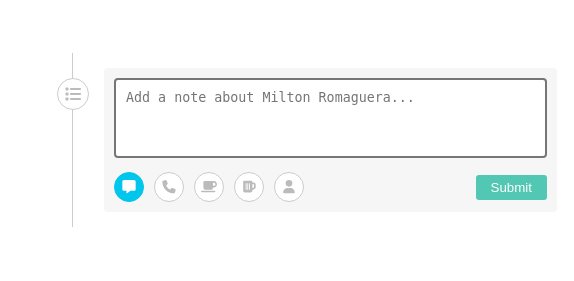
Test: Main page › Check adding activity item
The width and height of the screenshot is (574, 281).
Type "test note" into the text box with test id "textarea" at (330, 118), box x1=114 y1=78 x2=547 y2=158
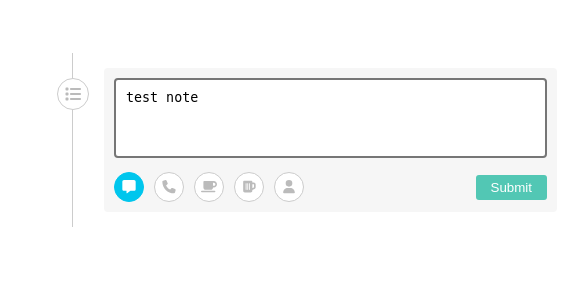
Click the button with test id "submit-note-btn" at (511, 187), box x1=476 y1=174 x2=547 y2=200
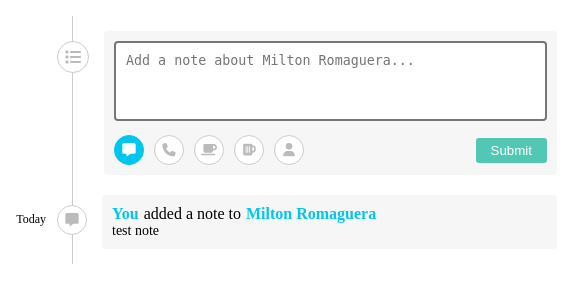
Now the element with test id "activity-item" is shown, box x1=57 y1=195 x2=557 y2=249
